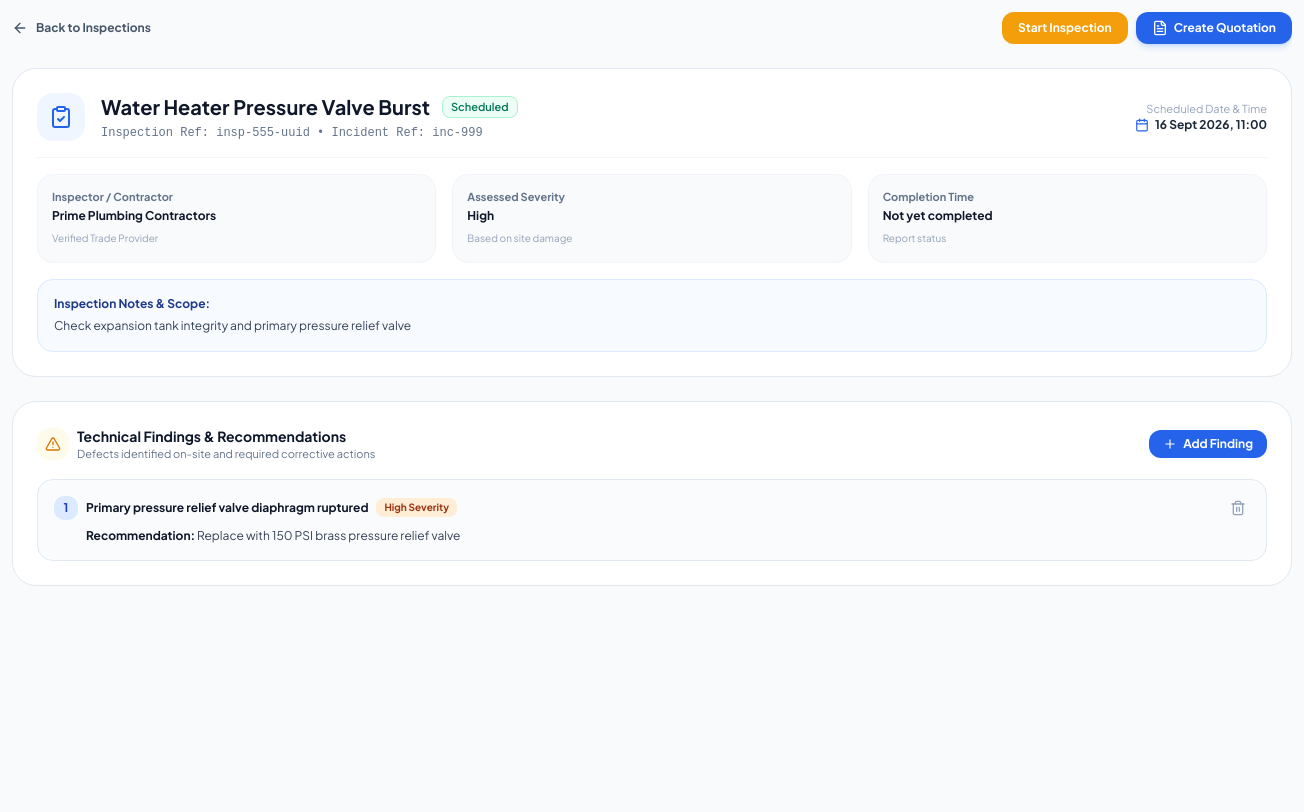
Test case: InspectionDetailPage › deletes a finding and removes it from list after confirmation
Check: the text "Primary pressure relief valve diaphragm ruptured" is shown, box [86,500,368,516]
Click the button titled "Remove finding". click: {"x": 1238, "y": 508}
box: [1226,496,1250,520]
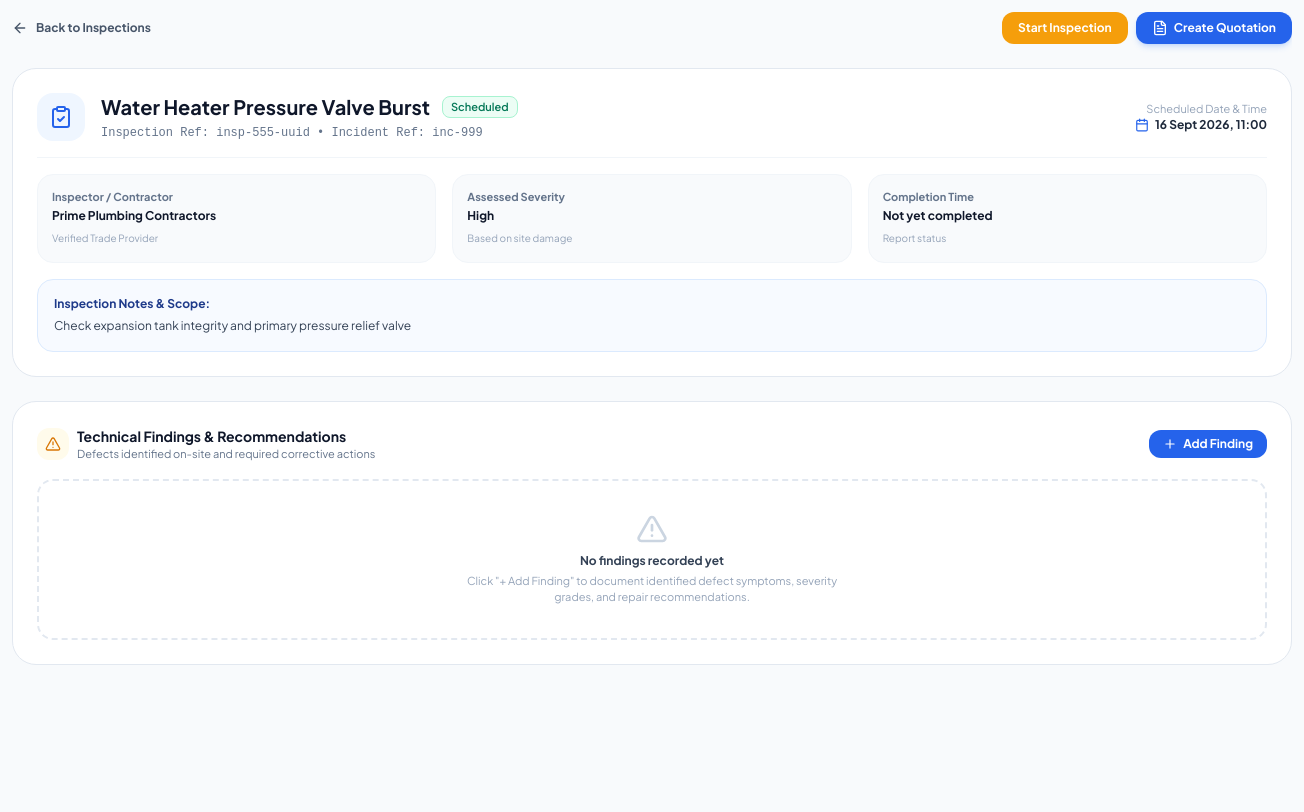
Check: the text "Primary pressure relief valve diaphragm ruptured" is gone
